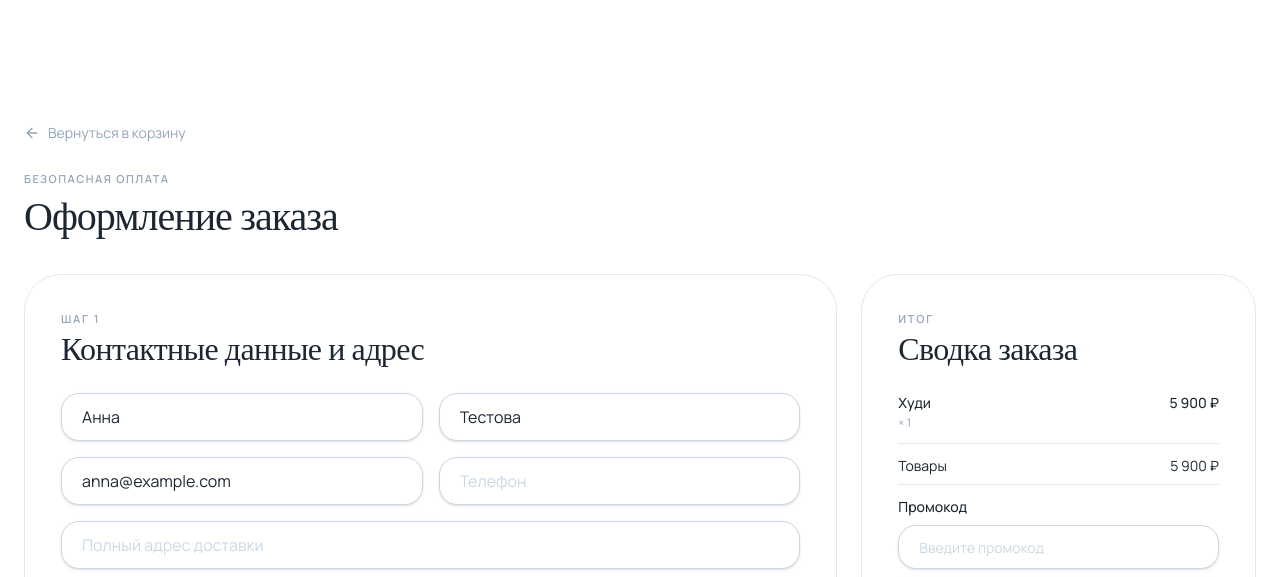
Test case: Checkout (CHECKOUT.E2E.1) › a server failure shows the safe client message and no cart link
Type "+79990001122" into the field with placeholder "Телефон" at (620, 481), box [439, 457, 800, 505]
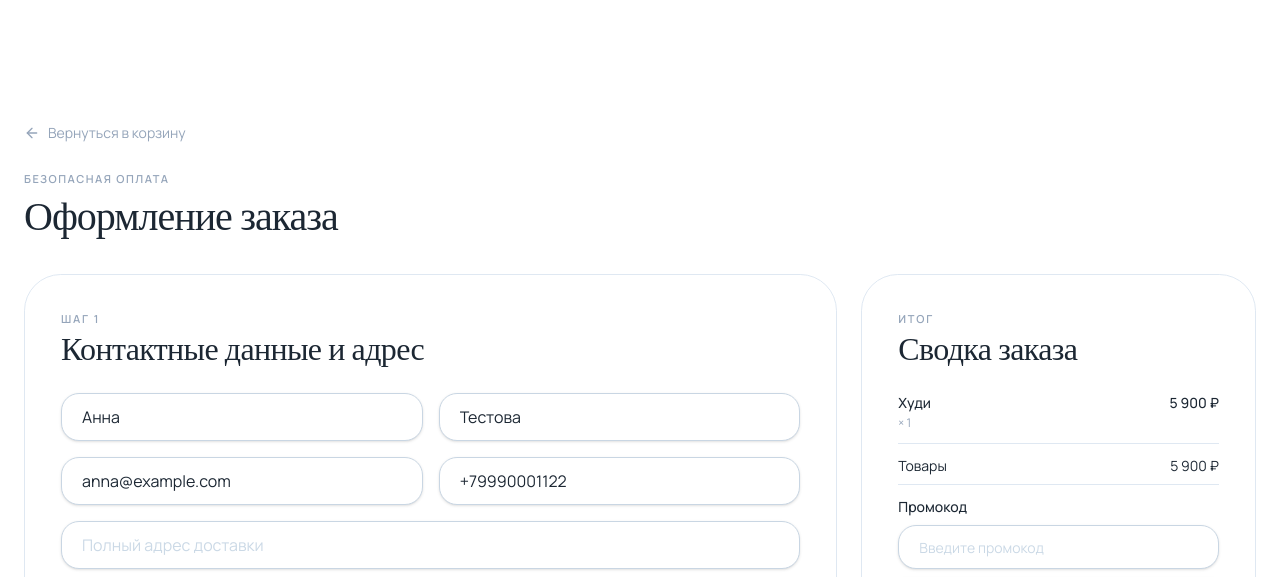
Type "Москва, Тверская 1" into the field with placeholder "Полный адрес доставки" at (431, 545), box [61, 521, 800, 569]
(page scrolled)
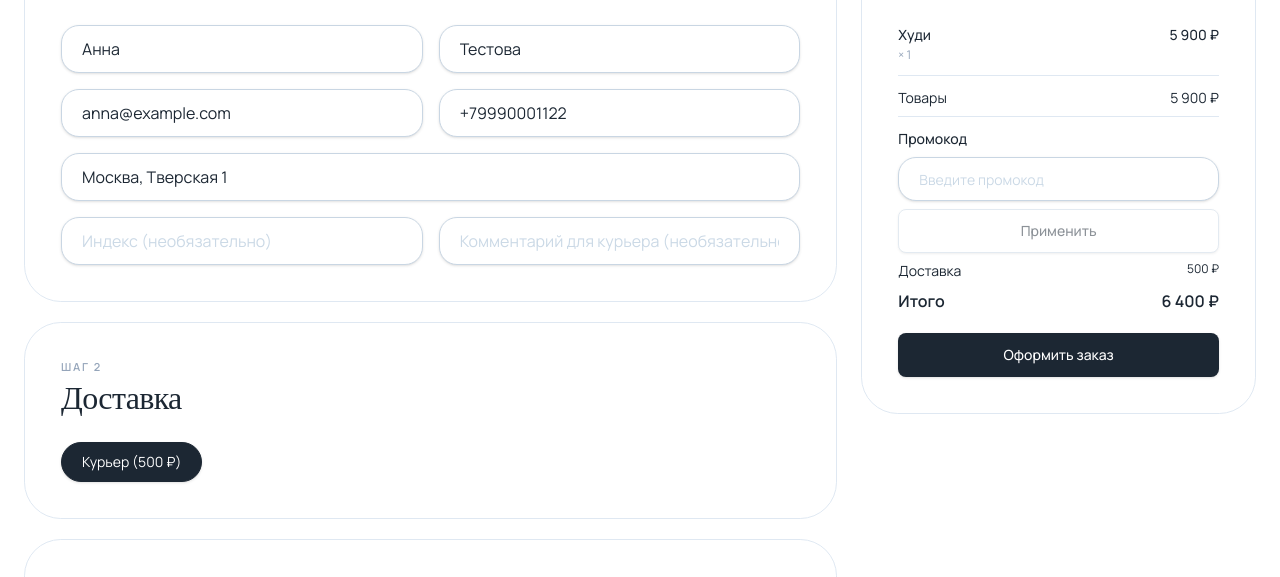
expect the button "Курьер (500 ₽)" is shown: met, box [61, 442, 202, 482]
Click the button "Оформить заказ" at (1059, 355), box [898, 333, 1219, 377]
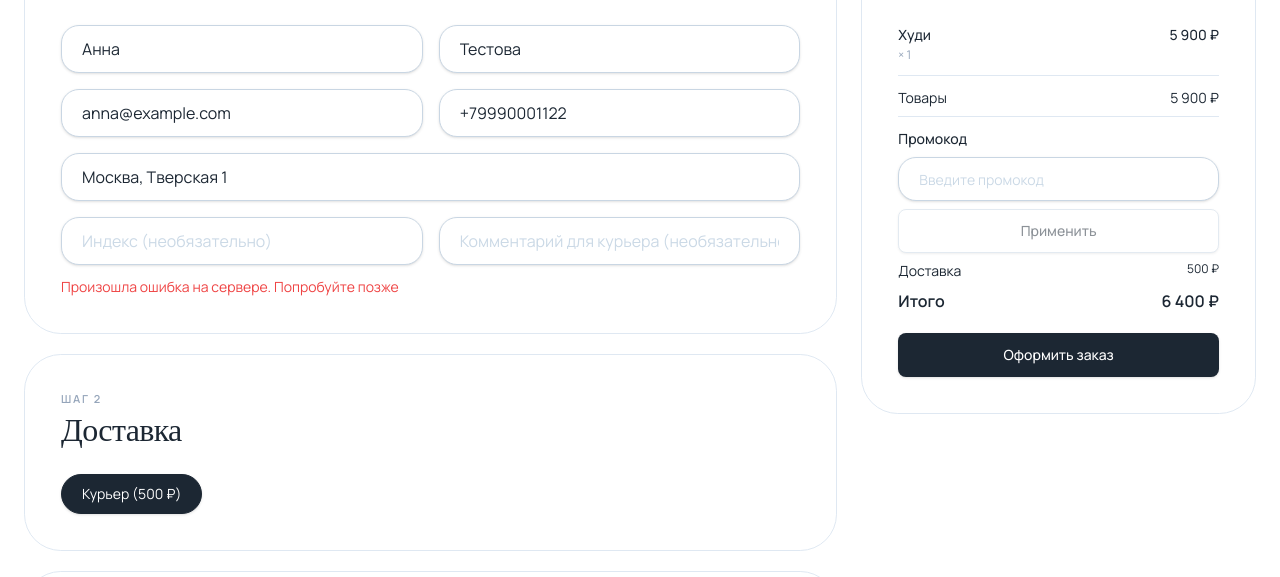
expect the message shows "Произошла ошибка на сервере": met, box [61, 277, 399, 296]
